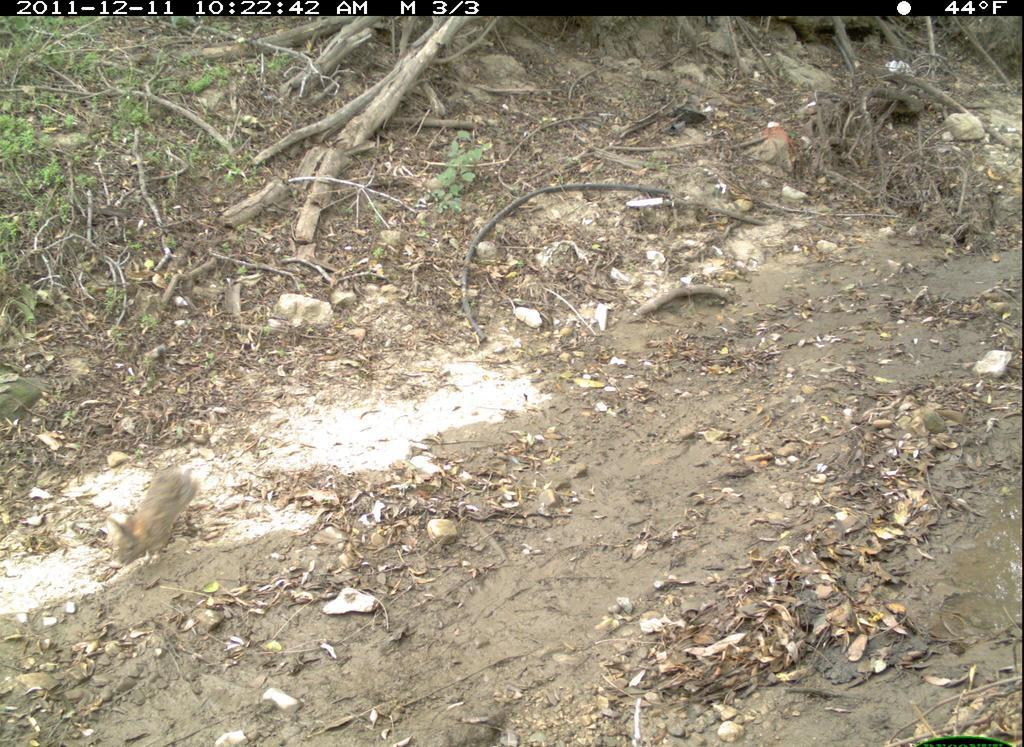rabbit: (103, 454, 217, 571)
